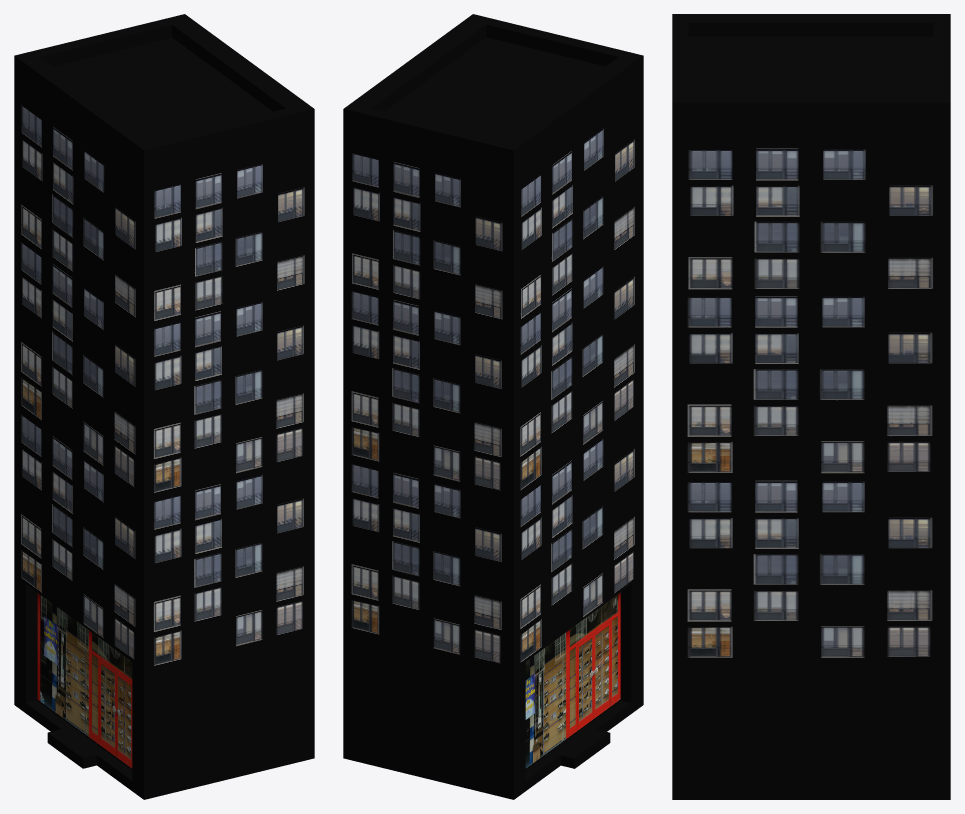
The model's file is building1.FBX.
3 views of the same model, side by side, from view 1: azimuth 30°, elevation 25°; view 2: azimuth 150°, elevation 25°; view 3: azimuth 270°, elevation 25° (orthographic). The views are drawn at different scales.
Parts seen in each view (by area): view 1: Box002; view 2: Box002; view 3: Box002.
Boxes of the visible parts, x1,y1,x2,y2 form: Box002: (14,14,314,799); Box002: (343,14,643,799); Box002: (672,14,950,799).
Size of the model in its own units: 46.46 by 156 by 56.59.
